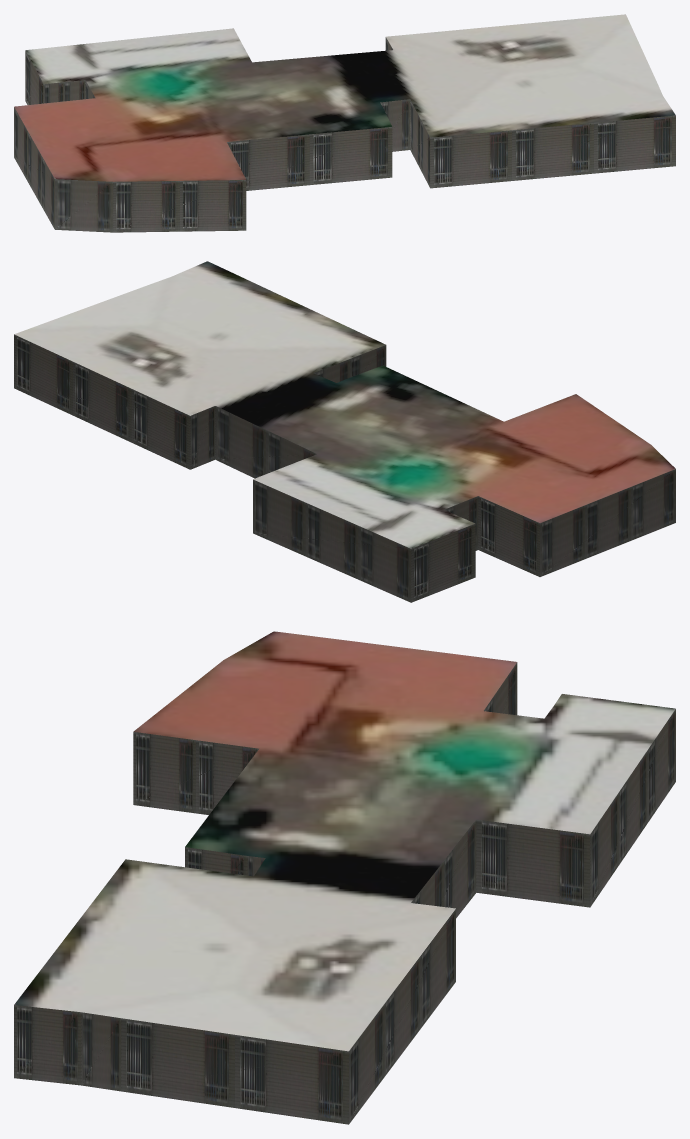
Rendered from T_1SWU64P1P3.dae.
3 renders of one model, top to bottom at view 1: azimuth 30°, elevation 25°; view 2: azimuth 150°, elevation 25°; view 3: azimuth 270°, elevation 25°, orthographic. The views are drawn at different scales.
Visible parts, largest first — view 1: SketchUp (×11); view 2: SketchUp (×10); view 3: SketchUp (×11).
Boxes of the visible parts, box(x1,y1,x2,y2) form: SketchUp (×11): box(14, 14, 675, 232); SketchUp (×10): box(14, 261, 675, 602); SketchUp (×11): box(14, 631, 675, 1124).
Size of the model in its own units: 46.99 by 31.29 by 3.82.
2 materials, 2 textured.
